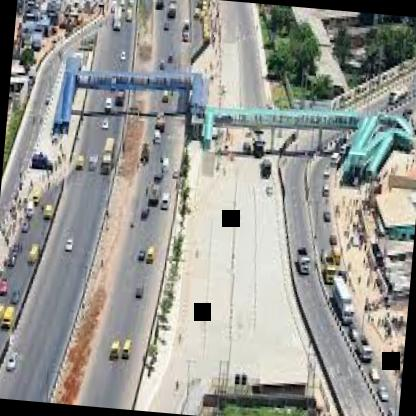car: (130, 276, 152, 309), (106, 332, 124, 370), (120, 330, 135, 364), (146, 238, 155, 271)
